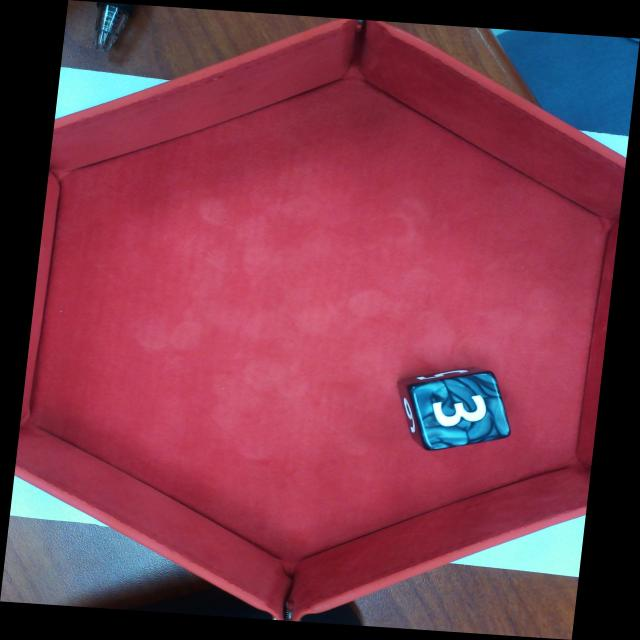dice: (406, 371, 514, 454)
